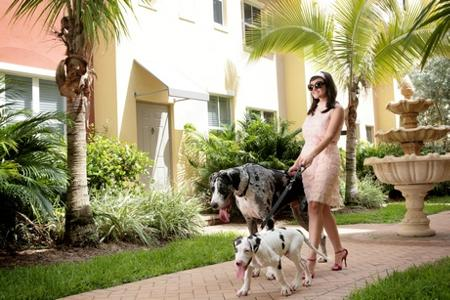person: (288, 71, 349, 279)
